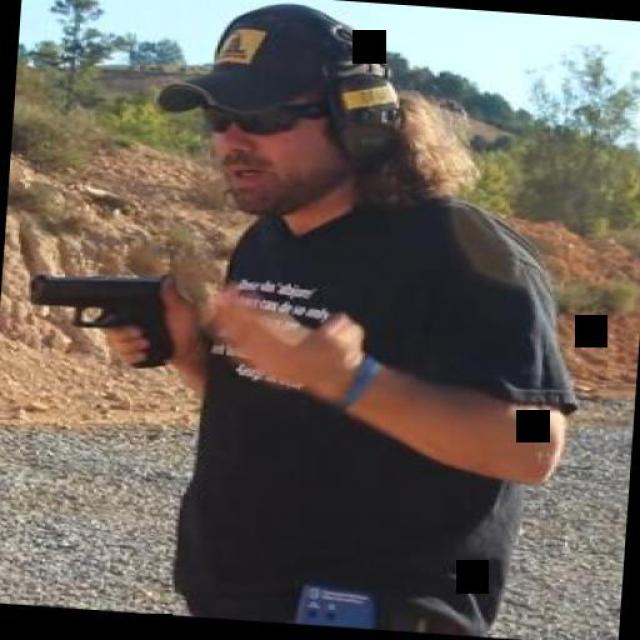gun: (14, 265, 180, 369)
